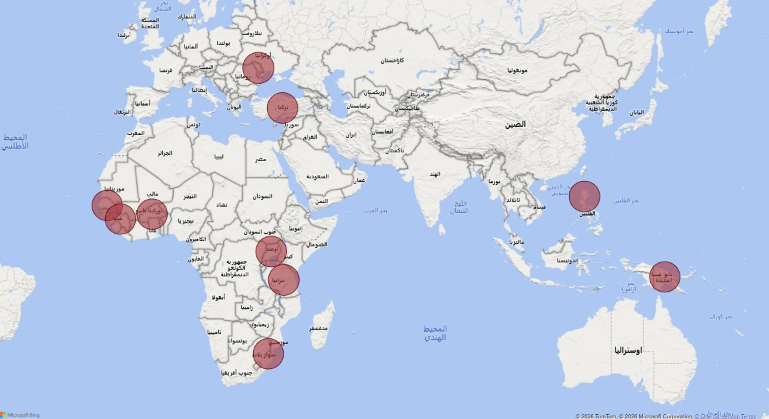

Layout of this report page (visuals, bound fields, positions):
{"tool":"powerbi","page":{"name":"MAP","canvas":[1280,720],"ordinal":1},"visuals":[{"type":"map","title":"Top 10 countries by recorded deaths","fields":{"Category":["A-B-C-D.country"],"Size":["CountNonNull(A-B-C-D.Death Cause)"]},"box":[10,0,1270,720],"z":0}]}

Visuals, with their boxes on the page's 1280x720 design canvas (x1, y1, x2, y2). These are canvas units, not pixel positions in the 769x419 screenshot, which may show the page scaled, cropped or inside an application window:
"Top 10 countries by recorded deaths" map: region(10, 0, 1280, 720)
